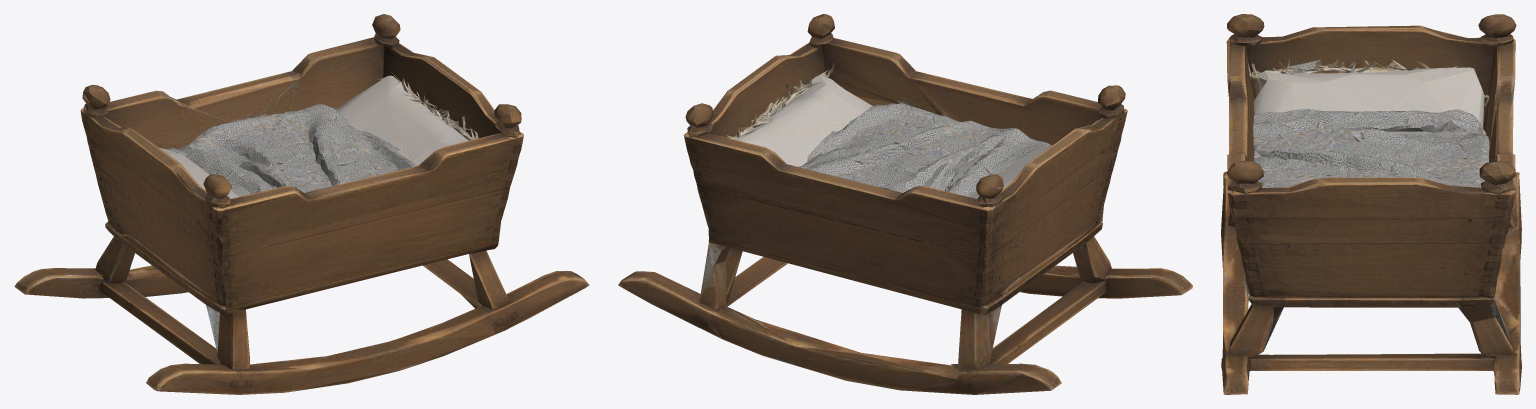
Rendered from cradle_rocking.glb.
3 renders of one model, left to right at view 1: azimuth 30°, elevation 25°; view 2: azimuth 150°, elevation 25°; view 3: azimuth 270°, elevation 25°, orthographic. The views are drawn at different scales.
Parts seen in each view (by area): view 1: cradle_rocking; view 2: cradle_rocking; view 3: cradle_rocking.
Part boxes in pixels (bbox=[...]): cradle_rocking: bbox=[14, 14, 589, 394]; cradle_rocking: bbox=[618, 14, 1192, 394]; cradle_rocking: bbox=[1221, 14, 1521, 394].
Bounding box in the file's own units: 0.95 × 0.48 × 0.55.
1 material, 1 textured.
